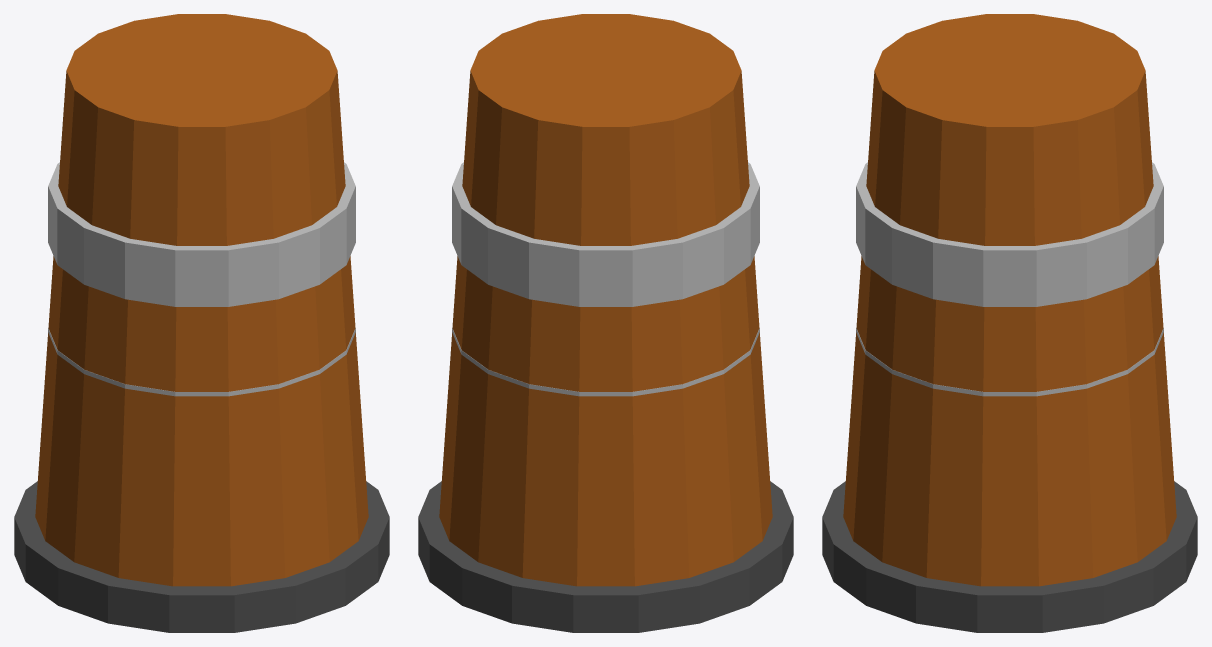
File: traffic-barrel.glb
3 renders of one model, left to right at view 1: azimuth 30°, elevation 25°; view 2: azimuth 150°, elevation 25°; view 3: azimuth 270°, elevation 25°, orthographic.
Parts seen in each view (by area): view 1: Cone, Cylinder.002, Cylinder, Cylinder.001; view 2: Cone, Cylinder.002, Cylinder, Cylinder.001; view 3: Cone, Cylinder.002, Cylinder, Cylinder.001.
Part boxes in pixels (x1,y1,x2,y2): Cone: [35, 14, 368, 586]; Cylinder.002: [14, 481, 389, 632]; Cylinder: [48, 162, 355, 306]; Cylinder.001: [48, 328, 355, 396]; Cone: [439, 14, 772, 586]; Cylinder.002: [418, 481, 793, 632]; Cylinder: [452, 162, 759, 306]; Cylinder.001: [452, 328, 759, 396]; Cone: [843, 14, 1176, 586]; Cylinder.002: [822, 481, 1197, 632]; Cylinder: [856, 162, 1163, 306]; Cylinder.001: [856, 328, 1163, 396].
Size of what is drawn, in the model's own units: 0.7091 by 1.03 by 0.72.
